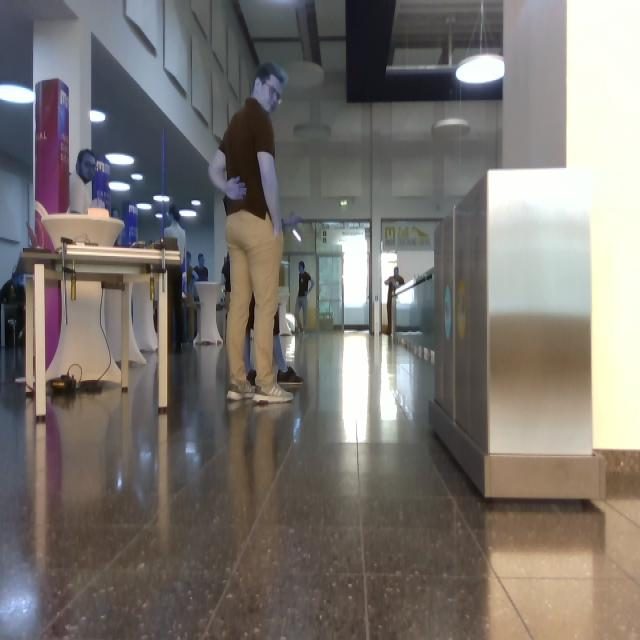door: (316, 222, 369, 330)
light bulb: (456, 1, 505, 85), (456, 54, 504, 85), (287, 62, 324, 90), (433, 118, 470, 140), (106, 154, 135, 165), (110, 182, 130, 190), (180, 209, 197, 217), (137, 204, 151, 210), (132, 174, 142, 181), (193, 200, 200, 206)
person: (210, 62, 293, 404), (295, 262, 315, 332), (386, 268, 405, 334), (195, 254, 208, 281)
pillar: (504, 1, 640, 497), (34, 20, 92, 181)
table: (19, 245, 182, 422), (47, 280, 120, 384), (40, 210, 123, 250), (196, 282, 223, 345)
tiled floor: (1, 334, 640, 640)
trash bin: (430, 169, 604, 500)
